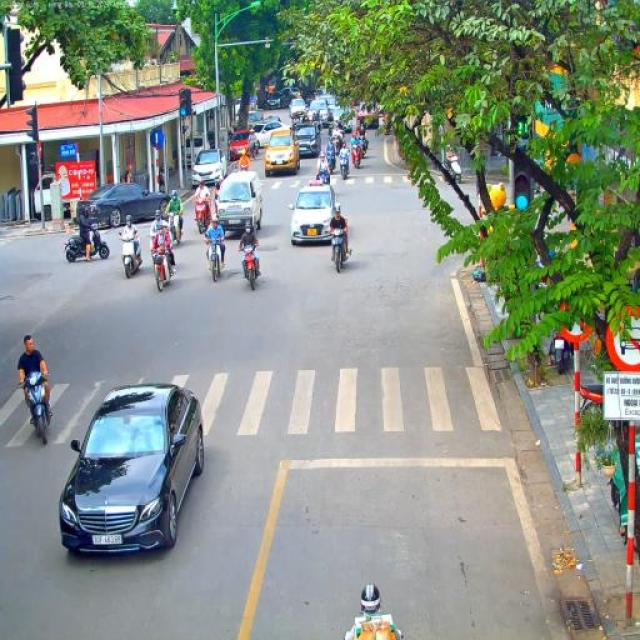car: (58, 382, 204, 558), (76, 182, 172, 228), (288, 177, 340, 246), (214, 170, 264, 239), (263, 128, 301, 178), (192, 149, 227, 190), (248, 122, 291, 149), (292, 121, 322, 159), (228, 129, 258, 162), (355, 98, 379, 130), (268, 88, 300, 110), (308, 98, 331, 128), (327, 106, 352, 133), (234, 108, 262, 131), (313, 87, 337, 111), (289, 99, 309, 123)
motorcycle: (18, 371, 54, 445), (63, 224, 111, 264), (149, 246, 177, 292), (325, 228, 353, 273), (548, 329, 571, 375), (119, 234, 143, 278), (239, 244, 260, 291), (203, 238, 225, 282), (192, 198, 214, 234), (440, 154, 462, 184), (166, 212, 183, 246), (340, 154, 350, 180), (314, 169, 330, 185), (350, 145, 360, 169), (327, 150, 338, 170), (248, 140, 256, 160), (236, 163, 250, 173), (359, 142, 367, 158)
truck: (32, 171, 86, 224)
